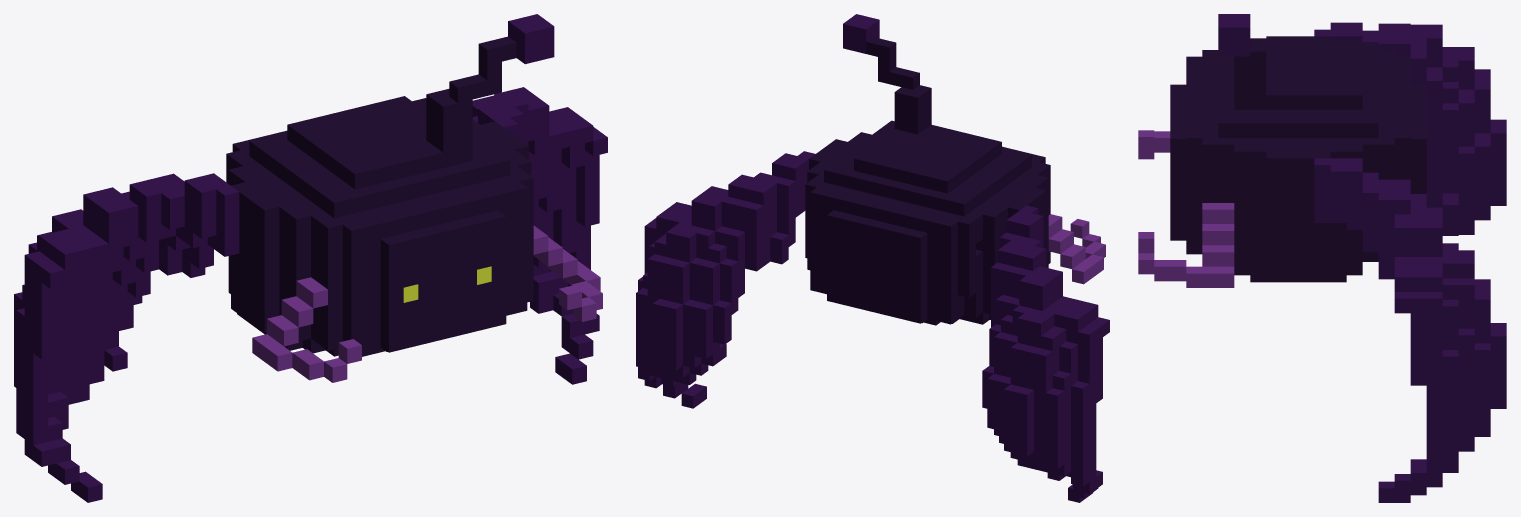
File: bat.glb
3 views of the same model, side by side, from view 1: azimuth 30°, elevation 25°; view 2: azimuth 150°, elevation 25°; view 3: azimuth 270°, elevation 25° (orthographic). The views are drawn at different scales.
Parts seen in each view (by area): view 1: bat; view 2: bat; view 3: bat.
Part boxes in pixels (x1,y1,x2,y2): bat: [14, 14, 607, 502]; bat: [636, 14, 1109, 502]; bat: [1138, 14, 1506, 502].
Bounding box in the file's own units: 3.8 × 2.9 × 2.3.
Materials: 1 (1 with a texture image).
